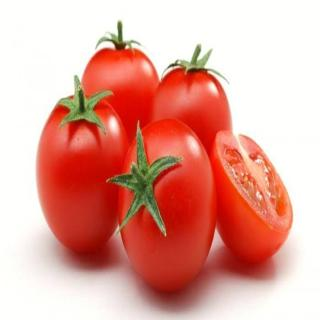Tomat: (107, 118, 218, 294), (36, 75, 130, 255), (210, 129, 294, 264), (81, 20, 160, 144), (150, 43, 234, 156)
